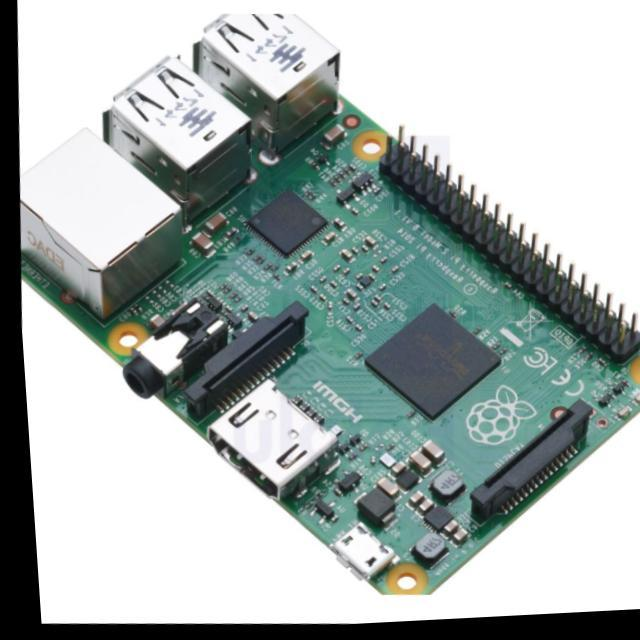Raspberry-Pi-2-B: (23, 14, 640, 592)
